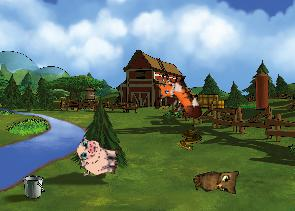fox: (149, 68, 205, 130)
owl: (191, 165, 243, 203)
pig: (75, 136, 120, 178)
